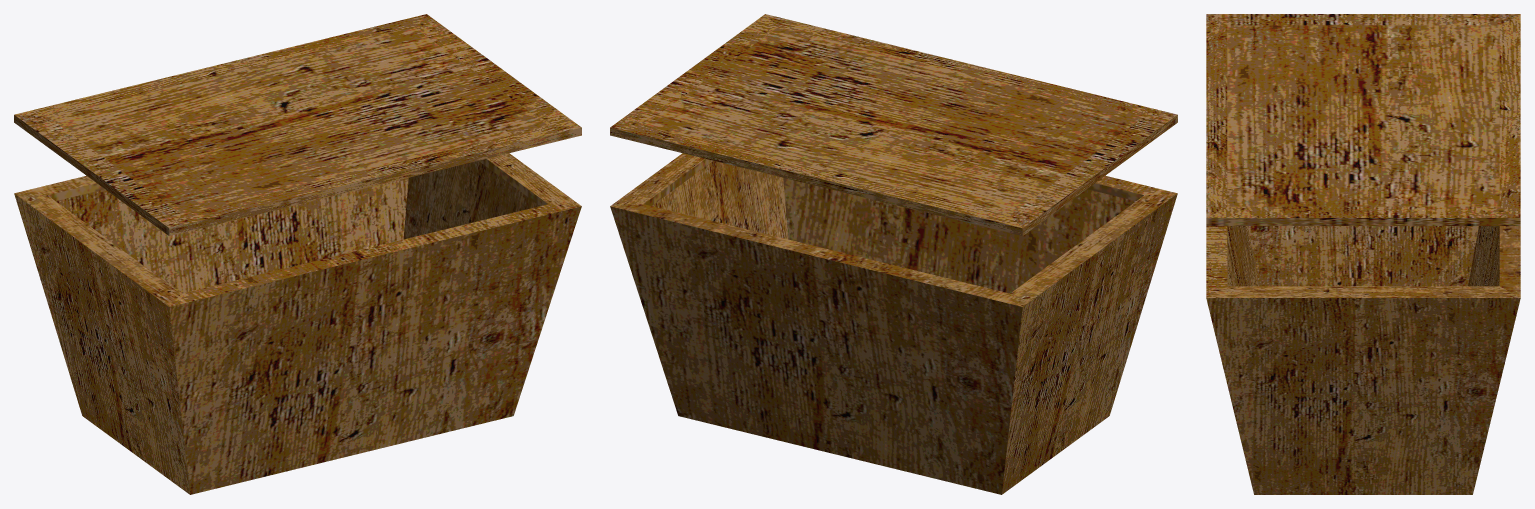
3 renders of one model, left to right at view 1: azimuth 30°, elevation 25°; view 2: azimuth 150°, elevation 25°; view 3: azimuth 270°, elevation 25°, orthographic.
Visible parts, largest first — view 1: Box, Lid; view 2: Box, Lid; view 3: Box, Lid.
Boxes of the visible parts, <box> form: Box: <box>14,153,581,494</box>; Lid: <box>14,14,581,235</box>; Box: <box>610,153,1177,494</box>; Lid: <box>610,14,1177,235</box>; Box: <box>1206,226,1520,494</box>; Lid: <box>1206,14,1520,225</box>.
Bounding box in the file's own units: 138 × 94.07 × 89.72.
1 material, 1 textured.
